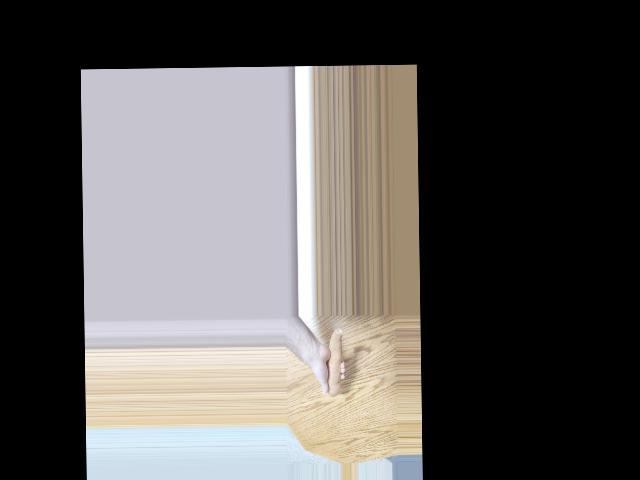sweet_potato: (321, 327, 342, 394)
